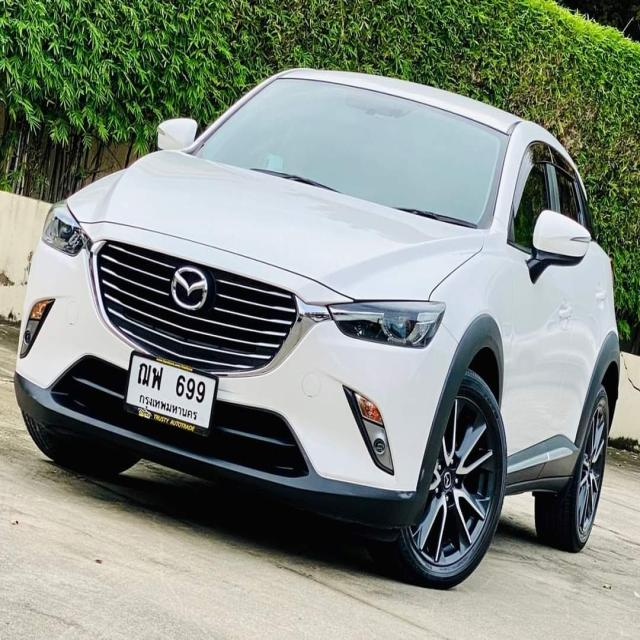license_plate: (122, 348, 219, 439)
